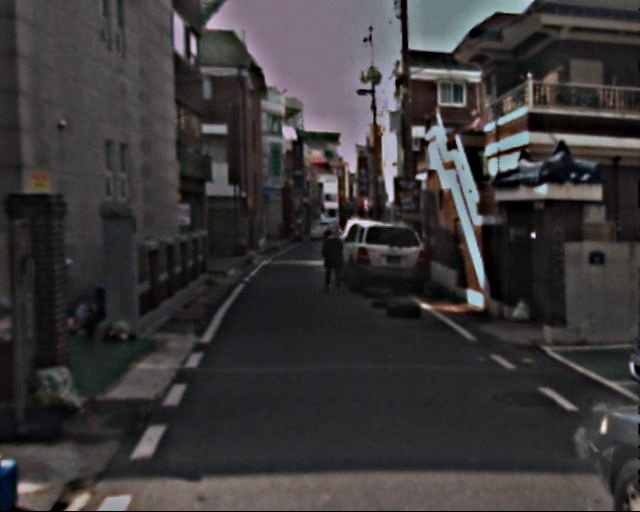person: (317, 228, 348, 299)
